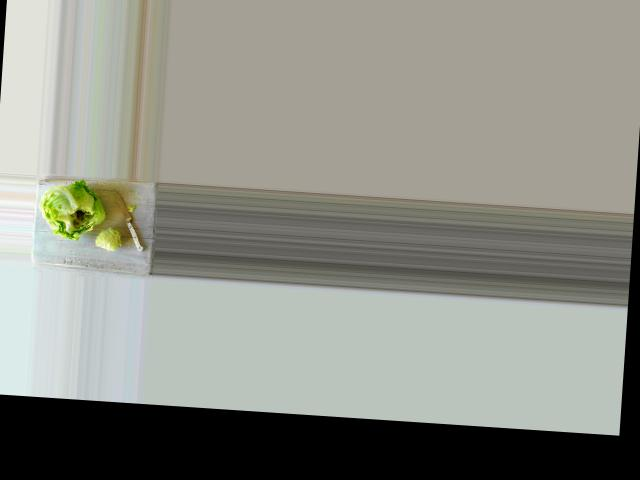lettuce: (35, 180, 101, 241)
